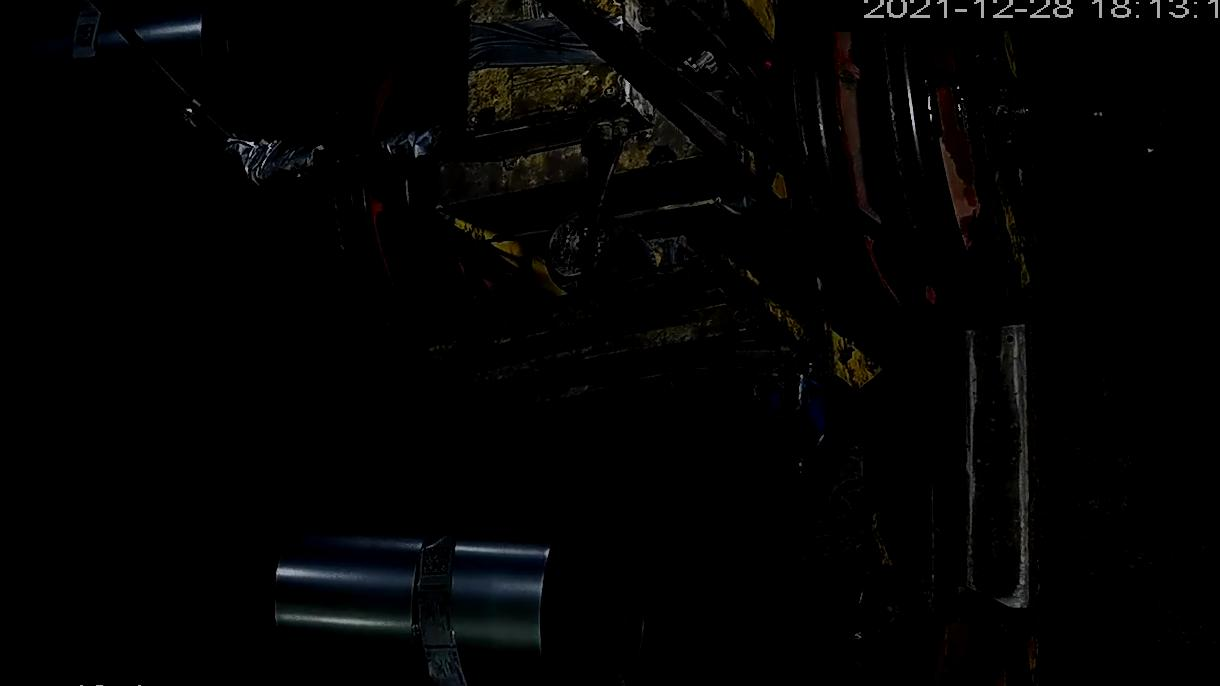data matrix: (421, 545, 457, 578), (72, 22, 99, 51)
